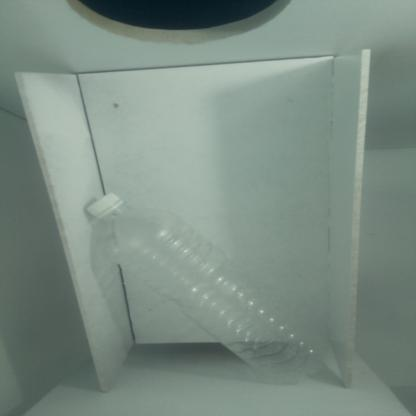Glass Bottle: (70, 190, 330, 389)
